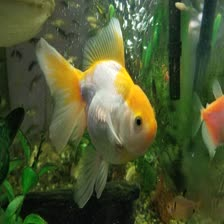Cuezo: (32, 29, 166, 207)
